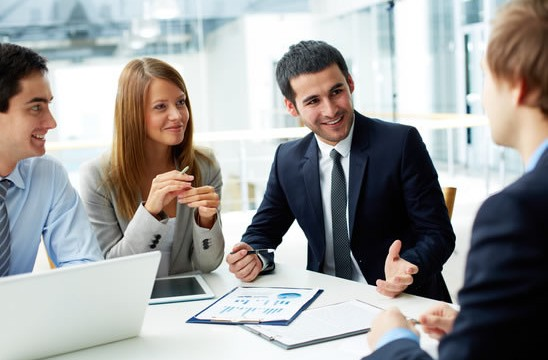paper: (232, 292, 451, 354), (175, 277, 360, 333)
